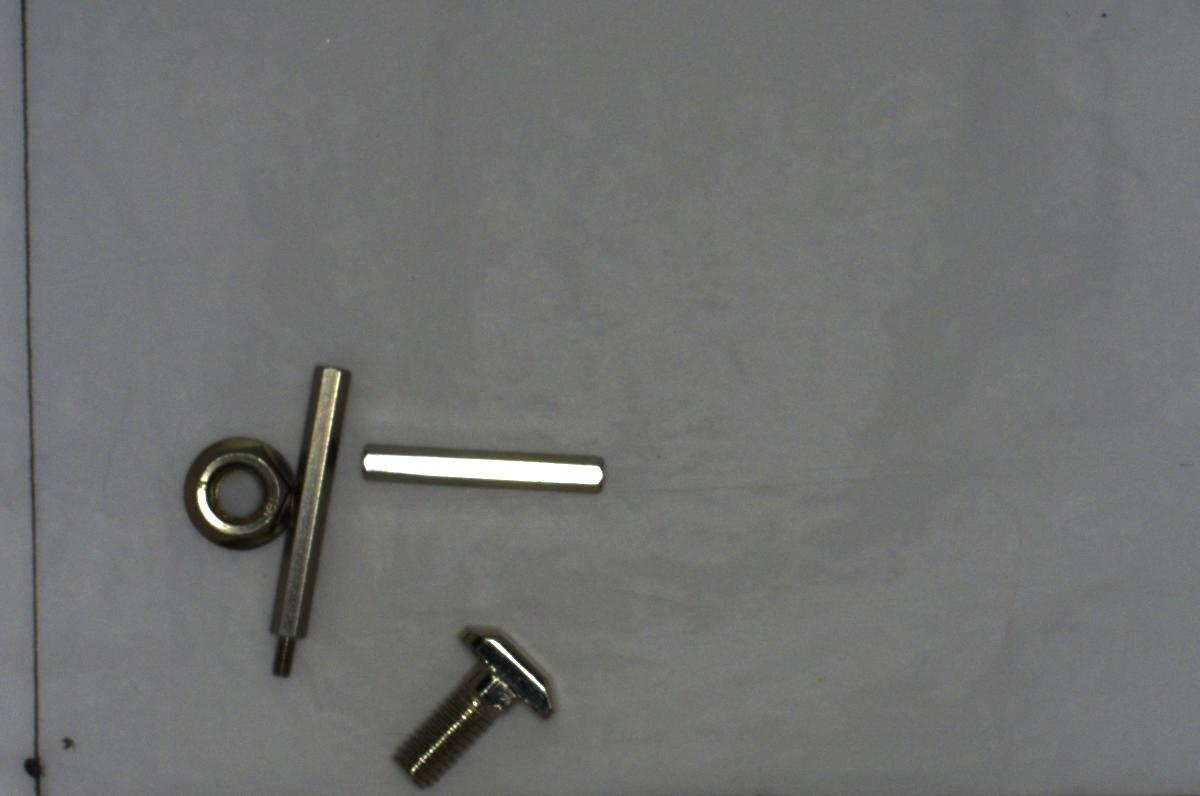Double hexagonal column: (347, 436, 615, 502)
Flange nut: (174, 430, 299, 554)
Hexagonal steel column: (255, 354, 350, 685)
T-shaped screw: (367, 614, 575, 792)
